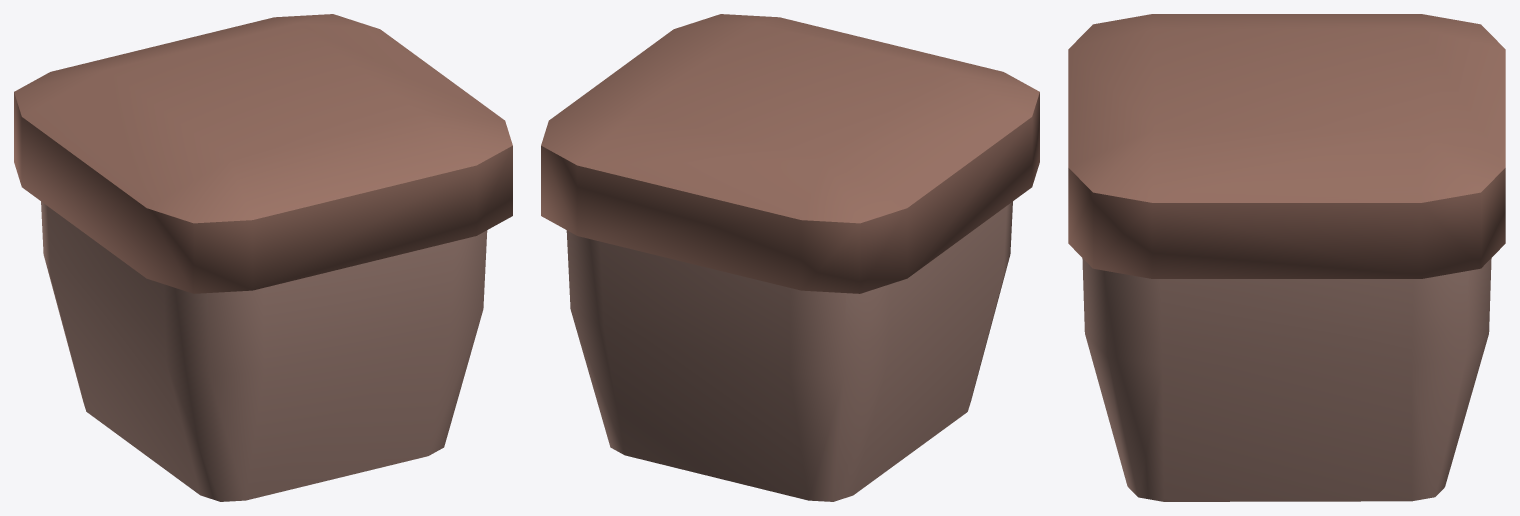
The model's file is ottoman_006.glb.
3 views of the same model, side by side, from view 1: azimuth 30°, elevation 25°; view 2: azimuth 150°, elevation 25°; view 3: azimuth 270°, elevation 25° (orthographic). The views are drawn at different scales.
Visible parts, largest first — view 1: ottoman_006; view 2: ottoman_006; view 3: ottoman_006.
Part boxes in pixels (box(x1,y1,x2,y2)): ottoman_006: box(14, 14, 512, 501); ottoman_006: box(541, 14, 1039, 501); ottoman_006: box(1068, 14, 1505, 501).
Bounding box in the file's own units: 0.3481 × 0.3087 × 0.3405.
1 material, 1 textured.
